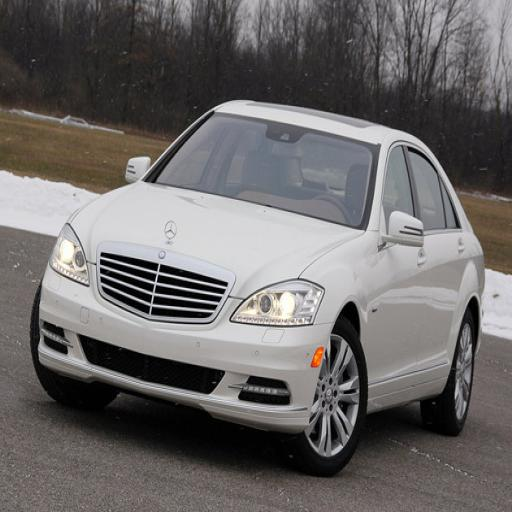scratch: (29, 290, 322, 445)
